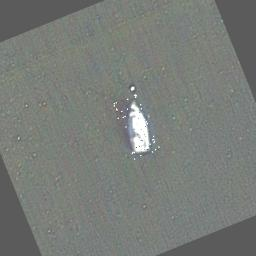boat: (112, 93, 160, 159)
